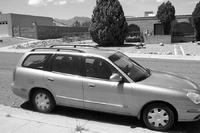car: (11, 44, 200, 133)
